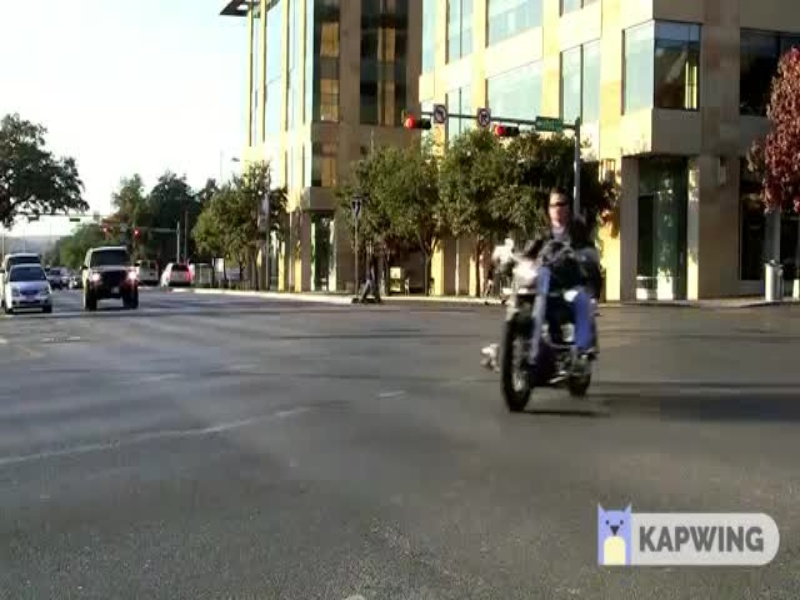car: (78, 240, 146, 316), (1, 263, 62, 321)
motorcycle: (477, 171, 616, 422)
